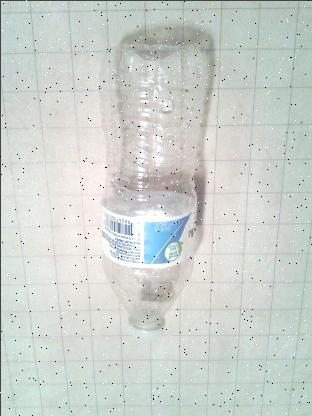Plastic Bottle: (99, 43, 206, 338)
